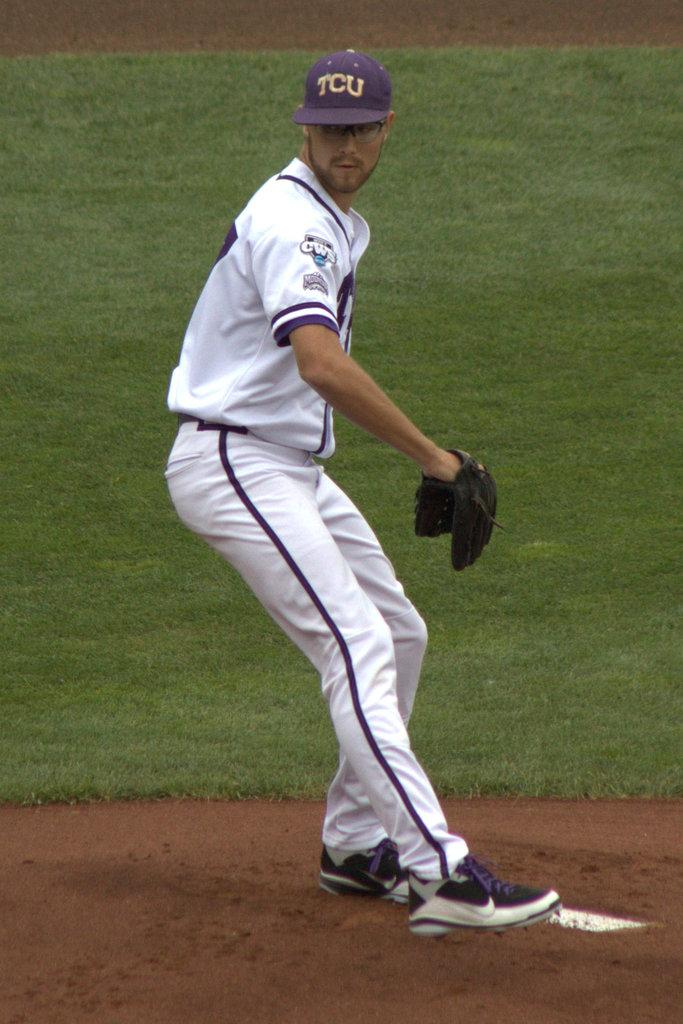Hat: (292, 49, 394, 128)
